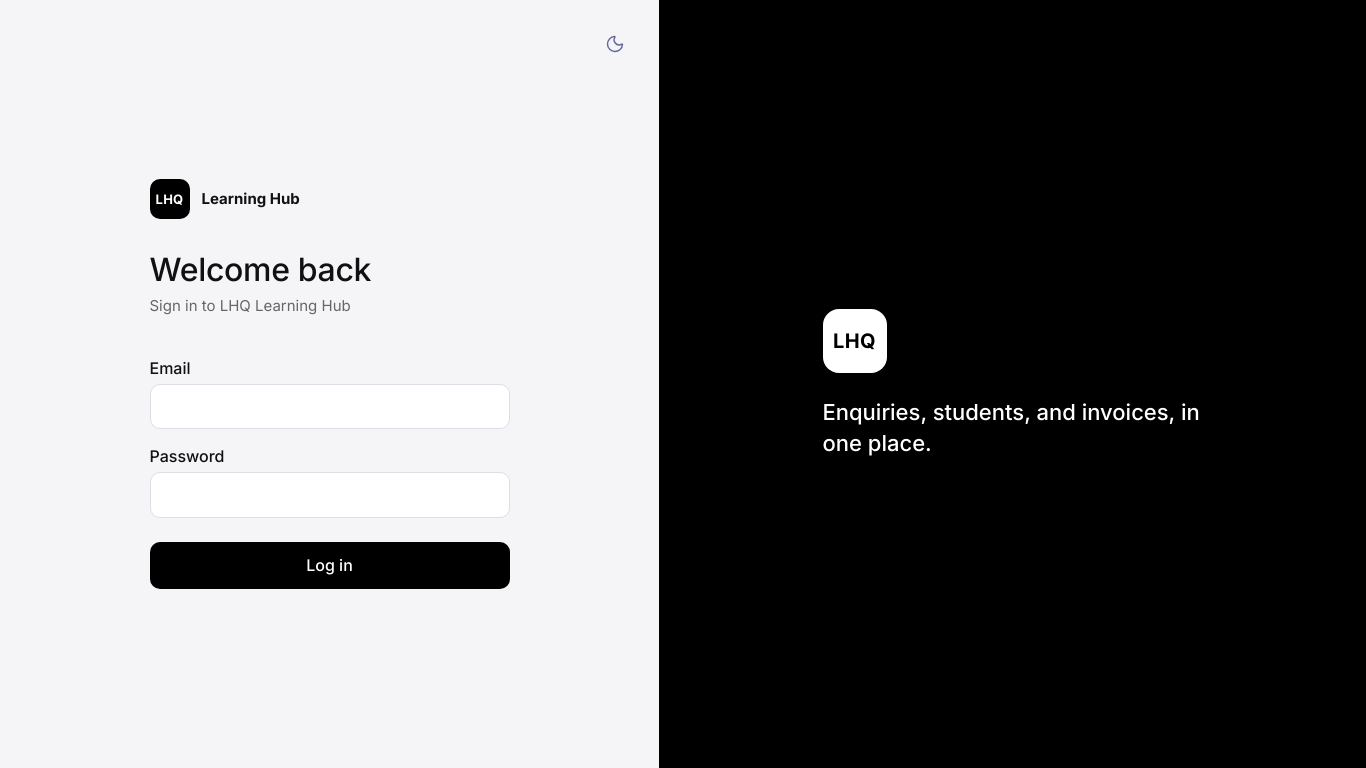
LoginPage › shows the server error message when login fails
The width and height of the screenshot is (1366, 768).
Type "tam@lhq.test" into the field labelled "Email" at (330,407), box [150,384,510,429]
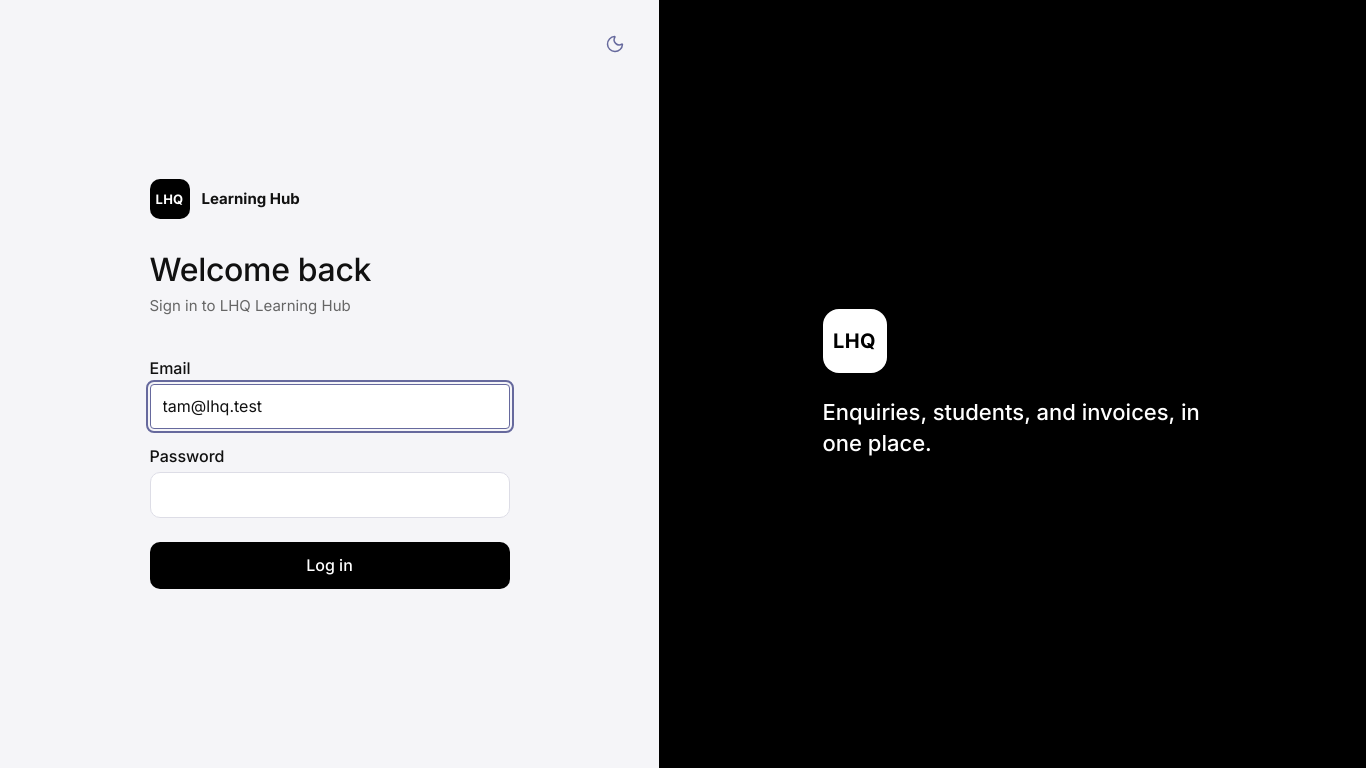
Type "wrong-password" into the password field labelled "Password" at (330,495), box [150,472,510,518]
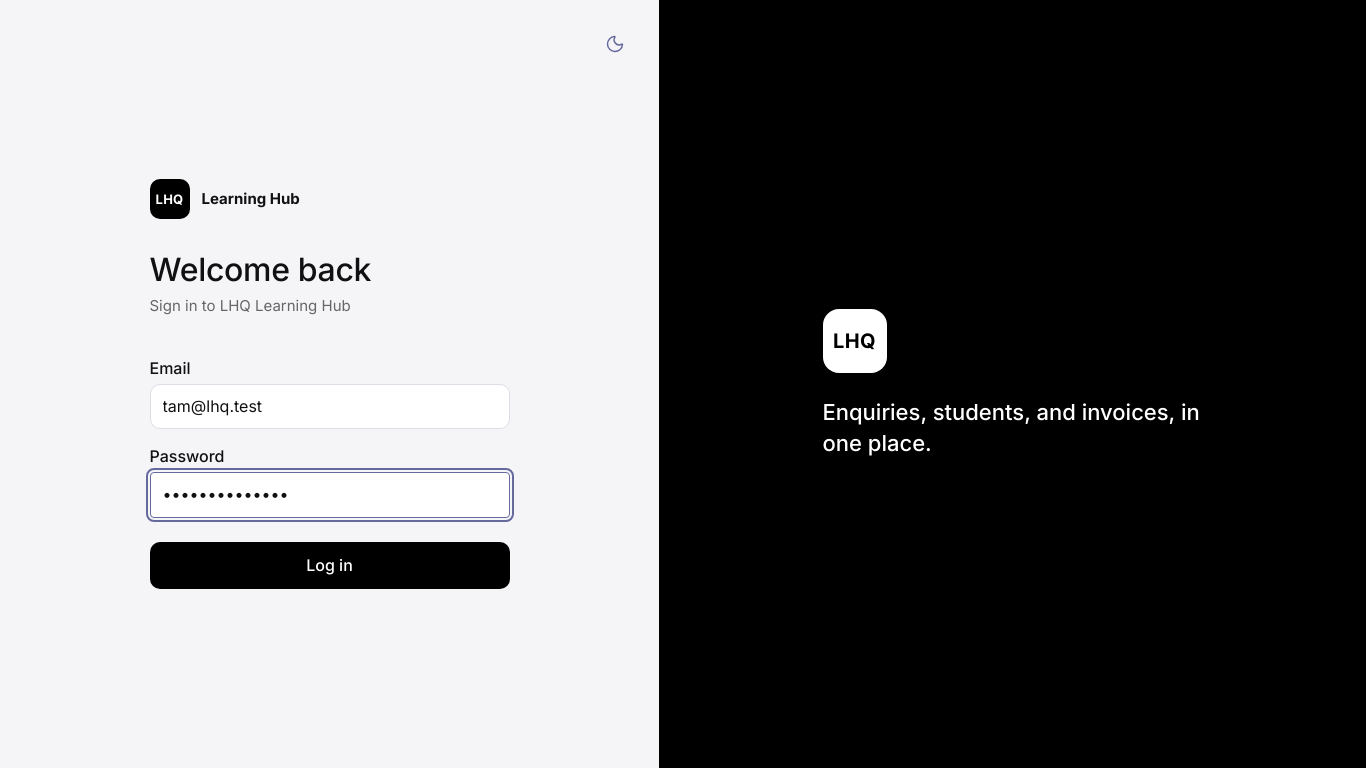
Click the button "Log in" at (330,565), box [150,542,510,589]
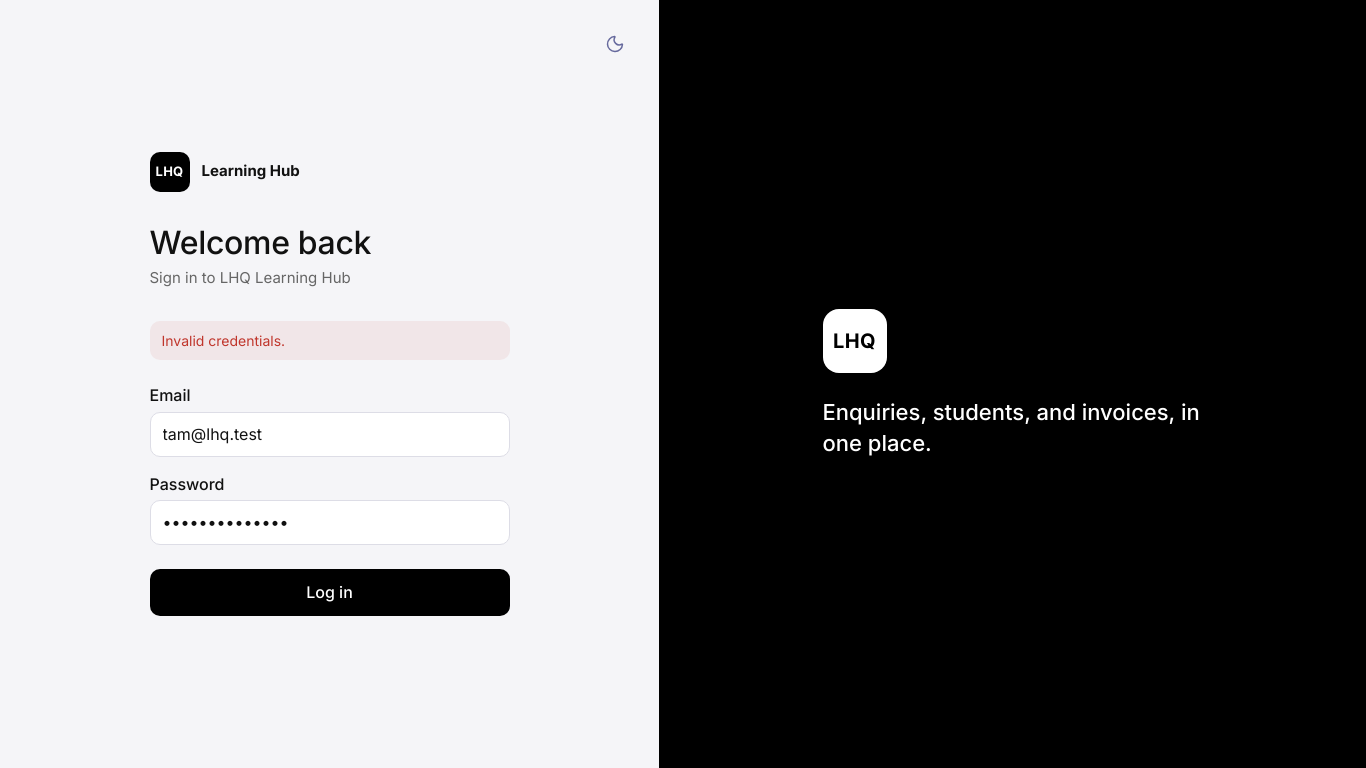
Result: the message reads "Invalid credentials." at [162,332,285,349]
